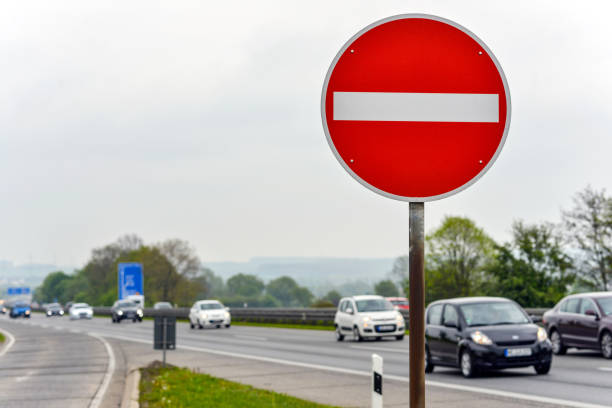Girilmez: (321, 15, 513, 202)
otomobil: (409, 291, 558, 394), (528, 276, 611, 396), (316, 288, 399, 353), (183, 299, 237, 332)
